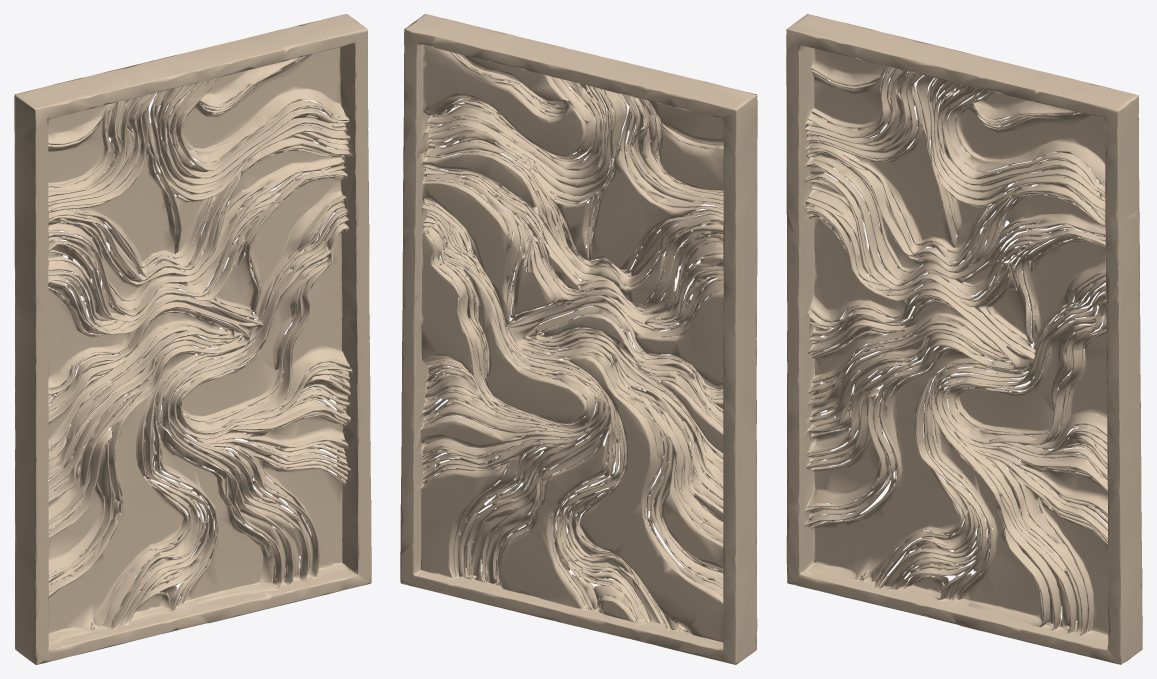
Rendered from wall-art-cream-wave-relief-web-baked.glb.
3 renders of one model, left to right at view 1: azimuth 30°, elevation 25°; view 2: azimuth 150°, elevation 25°; view 3: azimuth 330°, elevation 25°, orthographic.
Parts seen in each view (by area): view 1: Relief web; view 2: Relief web; view 3: Relief web.
Part boxes in pixels (x1,y1,x2,y2): Relief web: (14, 14, 371, 664); Relief web: (400, 14, 757, 664); Relief web: (786, 14, 1142, 664).
Size of the model in its own units: 0.6307 by 0.9966 by 0.0693.
1 material, 1 textured.
